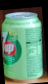sevenup: (2, 11, 44, 82)
